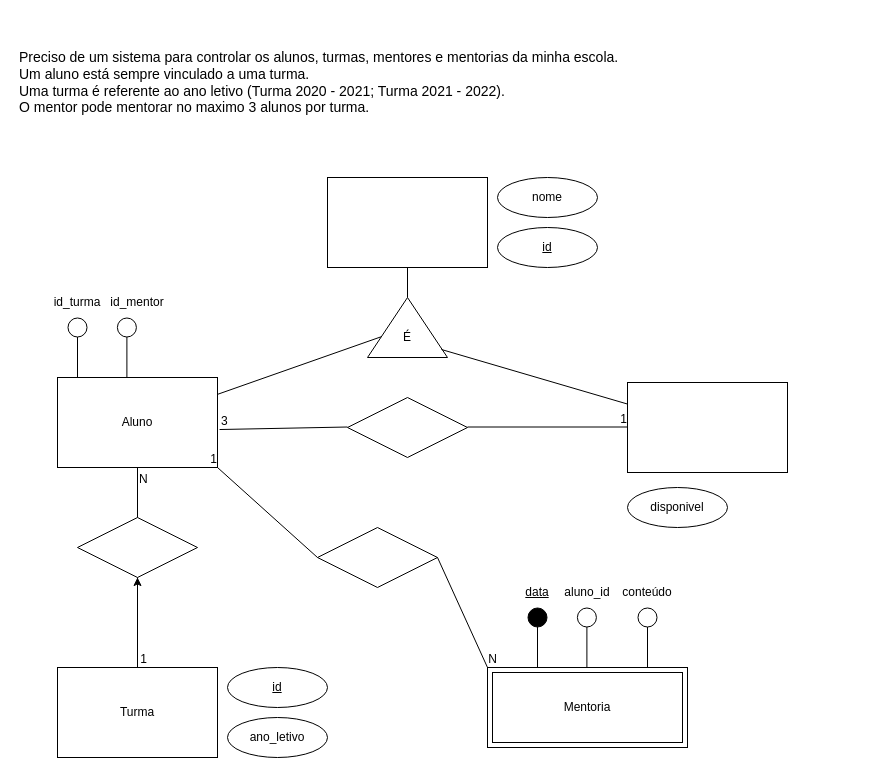
This 884x775 diagram has some shape labels left out. Here are the shapes that lost their labels. From the top down, the centre of each, then its label:
At point 407,222: "Pessoa".
At point 407,427: "mentora".
At point 707,427: "Mentor".
At point 137,547: "está vinculado à".
At point 377,557: "Faz".
